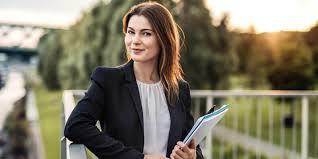person: (117, 0, 187, 67)
